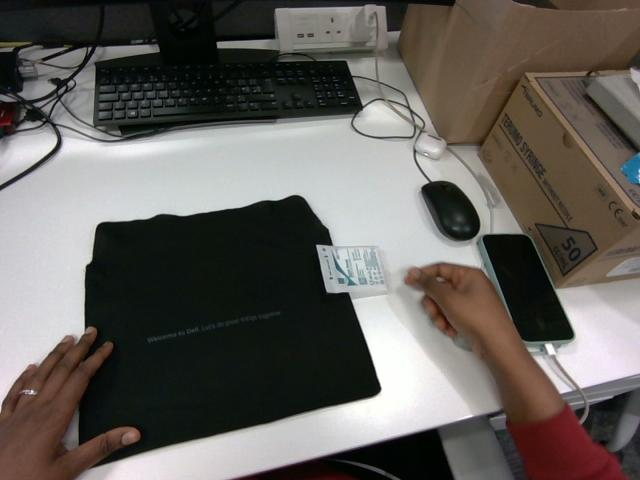gauze: (316, 245, 386, 297), (621, 153, 639, 184)
